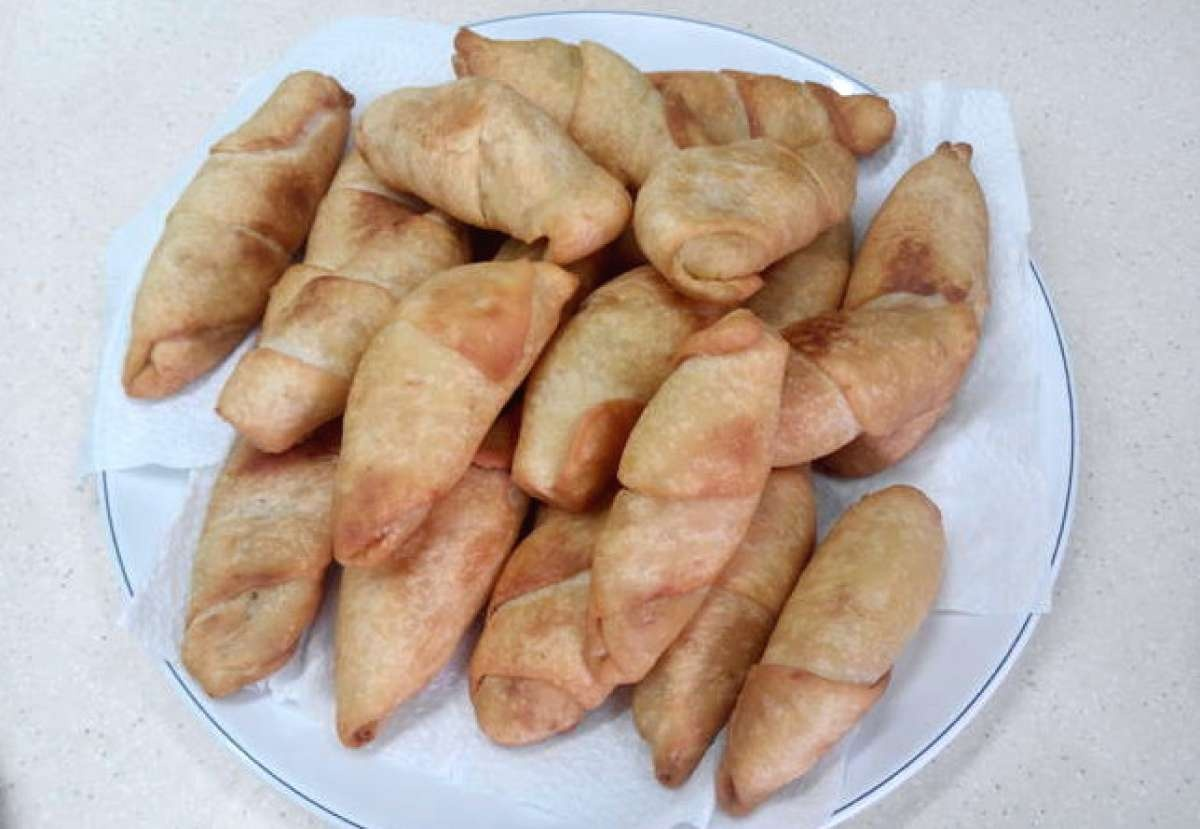pisang_molen: (117, 68, 354, 400), (715, 483, 946, 817), (334, 257, 580, 563), (594, 311, 790, 686)
